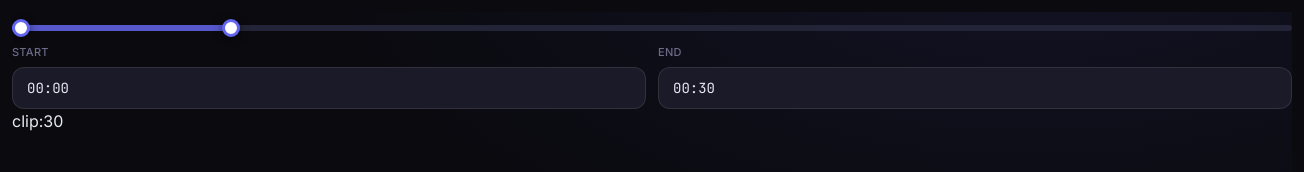
Test: trim range › writes typed start/end times back onto the slider
This screenshot has width=1304, height=172.
Replace the text in the field named "Clip start time" with "00:10" at {"x": 329, "y": 88}, box [12,66,646,108]
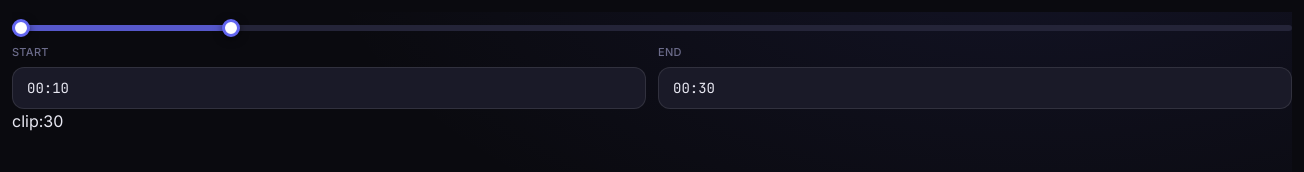
Leave the field named "Clip start time", box [12,66,646,108]
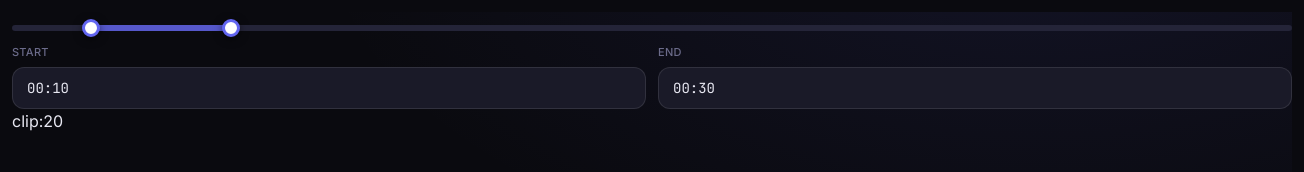
Check: the slider named "Clip start" holds "10", box [12,12,1292,44]
Check: the text "clip:20" is shown, box [12,110,63,130]
